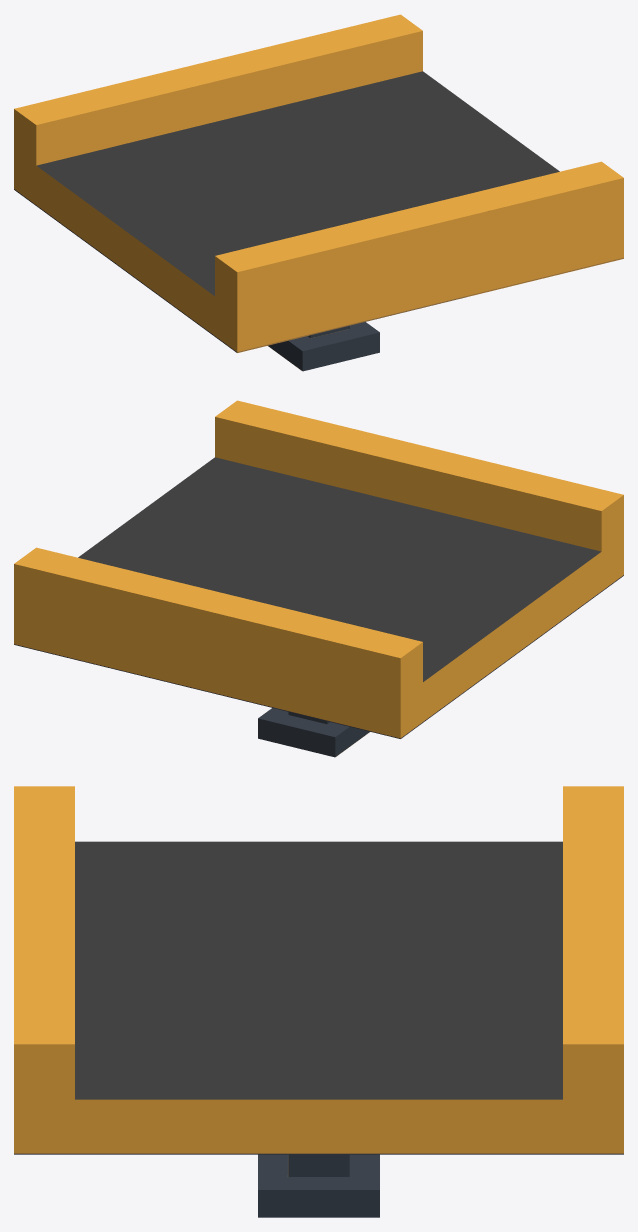
Rendered from C_Belt_V1.1.gltf.
3 views of the same model, one above another, from view 1: azimuth 30°, elevation 25°; view 2: azimuth 150°, elevation 25°; view 3: azimuth 270°, elevation 25° (orthographic). The views are drawn at different scales.
Parts seen in each view (by area): view 1: Conveyor; view 2: Conveyor; view 3: Conveyor.
Boxes of the visible parts, x1,y1,x2,y2 form: Conveyor: (14,14,623,371); Conveyor: (14,400,623,757); Conveyor: (14,786,623,1217).
Size of the model in its own units: 1 by 0.5 by 1.
Materials: 1 (1 with a texture image).
